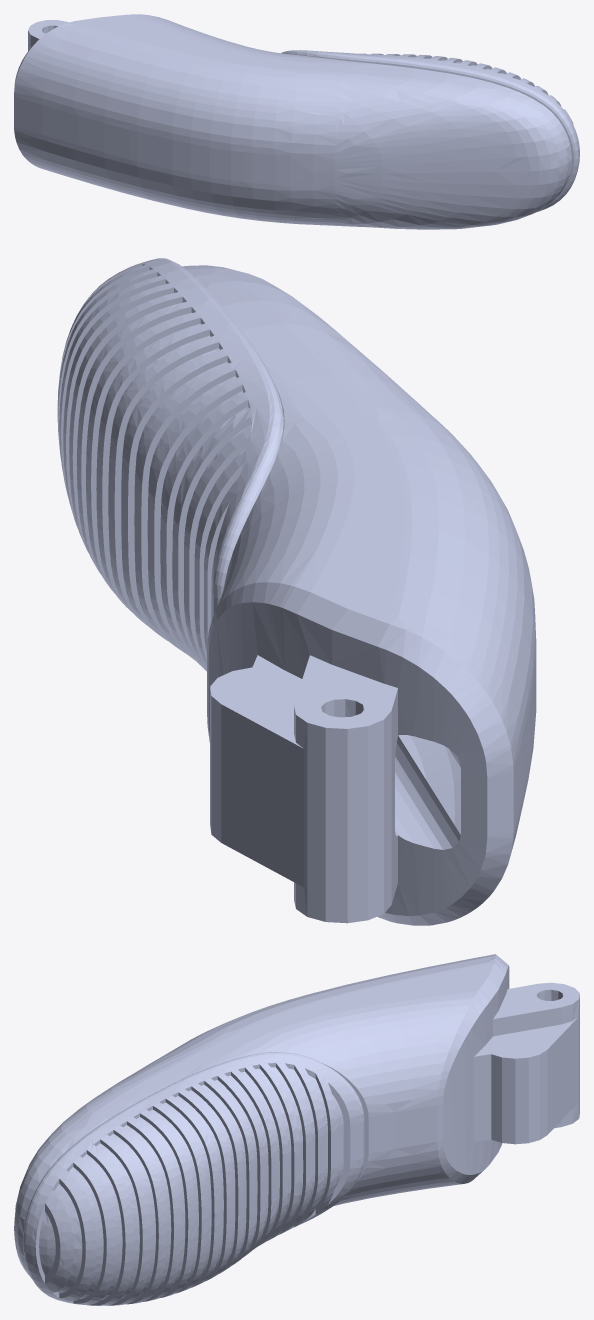
Rendered from lh_middle_distal_vis.obj.
3 renders of one model, top to bottom at view 1: azimuth 30°, elevation 25°; view 2: azimuth 150°, elevation 25°; view 3: azimuth 270°, elevation 25°, orthographic. The views are drawn at different scales.
Parts seen in each view (by area): view 1: lh_middle_distal; view 2: lh_middle_distal; view 3: lh_middle_distal.
Boxes of the visible parts, left/top/right/bottom form: lh_middle_distal: left=14, top=14, right=579, bottom=229; lh_middle_distal: left=57, top=258, right=536, bottom=925; lh_middle_distal: left=14, top=954, right=579, bottom=1305.
Bounding box in the file's own units: 0.0408 × 0.0159 × 0.042.
1 material, 1 textured.
